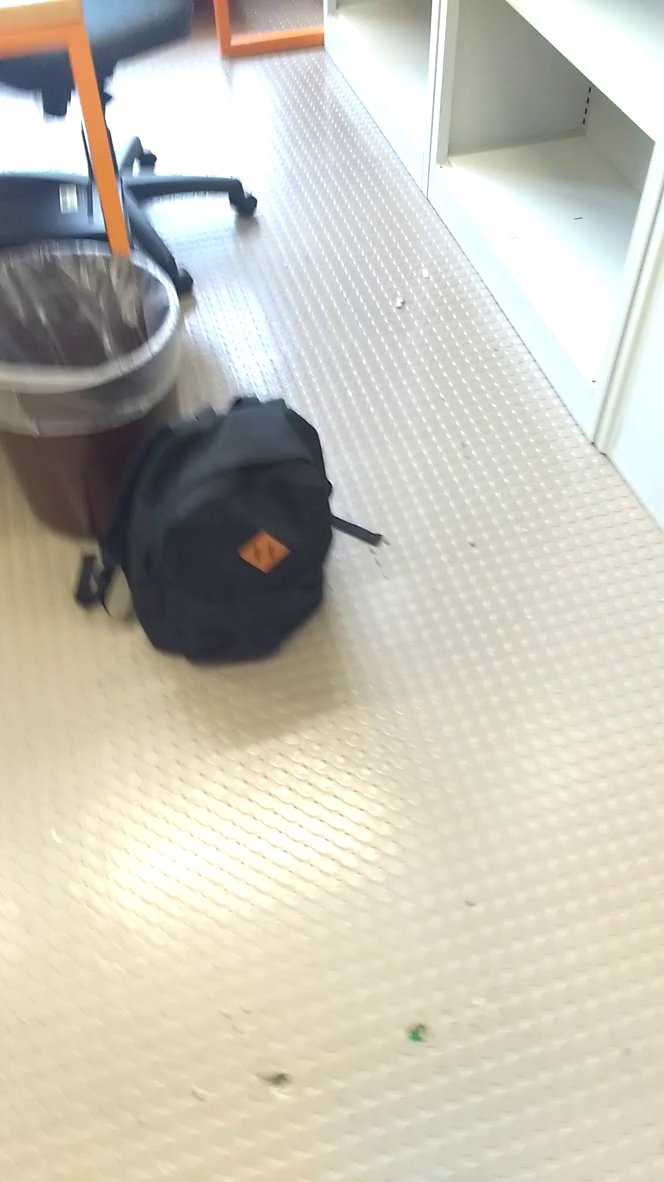bag: (74, 384, 390, 675)
bin: (1, 222, 196, 546)
